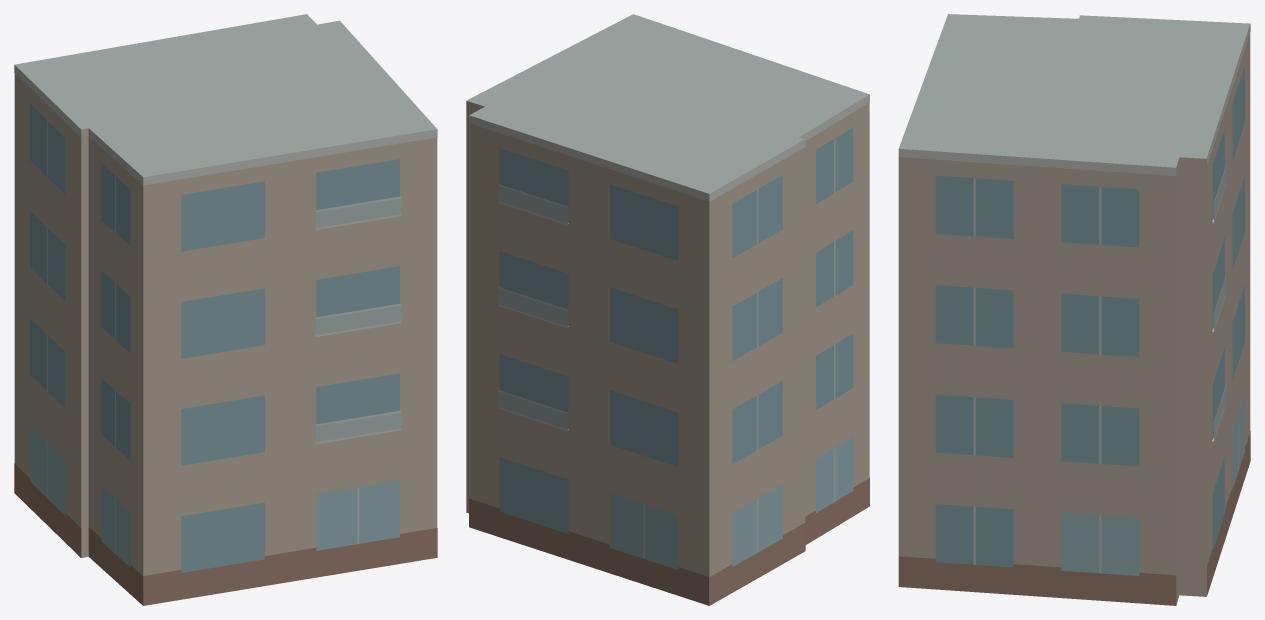
The model's file is survey-upis-32670582.glb.
3 views of the same model, side by side, from view 1: azimuth 30°, elevation 25°; view 2: azimuth 150°, elevation 25°; view 3: azimuth 270°, elevation 25° (orthographic). The views are drawn at different scales.
Visible parts, largest first — view 1: survey-upis-32670582.tmp; view 2: survey-upis-32670582.tmp; view 3: survey-upis-32670582.tmp.
Part boxes in pixels (x1,y1,x2,y2): survey-upis-32670582.tmp: (14, 14, 437, 605); survey-upis-32670582.tmp: (466, 14, 869, 605); survey-upis-32670582.tmp: (898, 14, 1250, 605).
Size of the model in its own units: 9.64 by 12.8 by 9.32.
